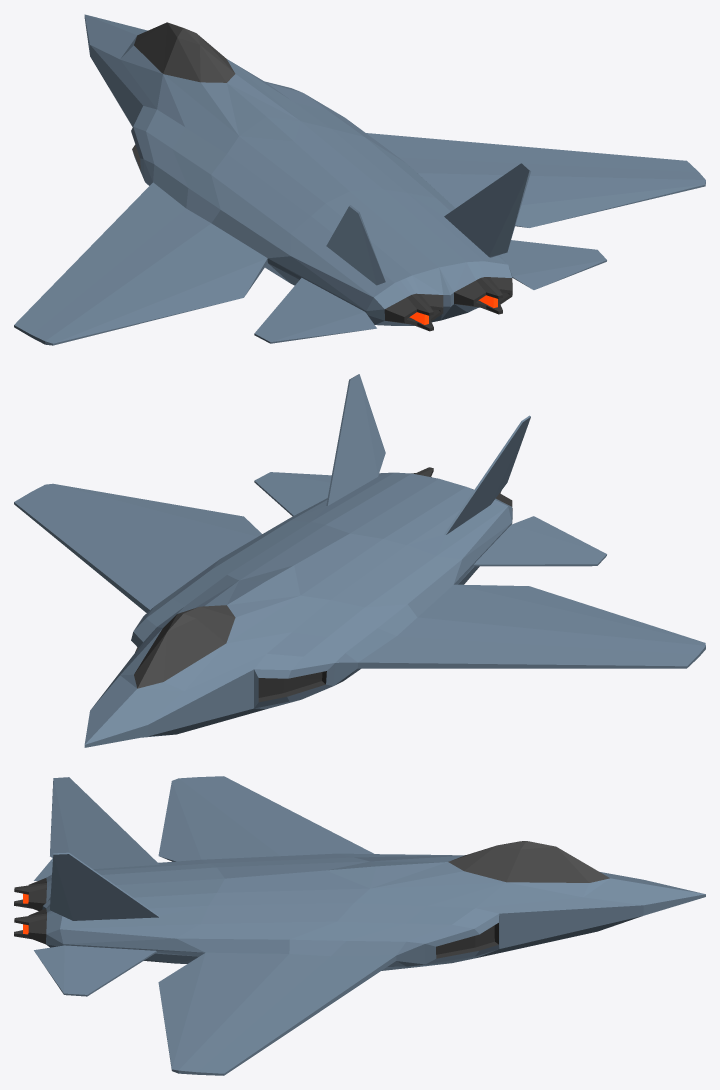
File: jet_mk2.glb
3 views of the same model, one above another, from view 1: azimuth 30°, elevation 25°; view 2: azimuth 150°, elevation 25°; view 3: azimuth 270°, elevation 25° (orthographic). The views are drawn at different scales.
Visible parts, largest first — view 1: Frame_0, Wings.Front_1, Thrusters_2; view 2: Frame_0, Wings.Front_1; view 3: Frame_0, Wings.Front_1, Thrusters_2.
Boxes of the visible parts, <box> form: Frame_0: <box>84,14,606,343</box>; Wings.Front_1: <box>14,133,705,345</box>; Thrusters_2: <box>384,277,512,331</box>; Frame_0: <box>84,374,606,747</box>; Wings.Front_1: <box>14,483,705,668</box>; Frame_0: <box>34,777,705,996</box>; Wings.Front_1: <box>158,776,396,1075</box>; Thrusters_2: <box>14,878,46,944</box>.
Size of the model in its own units: 7.56 by 1.67 by 7.42.
